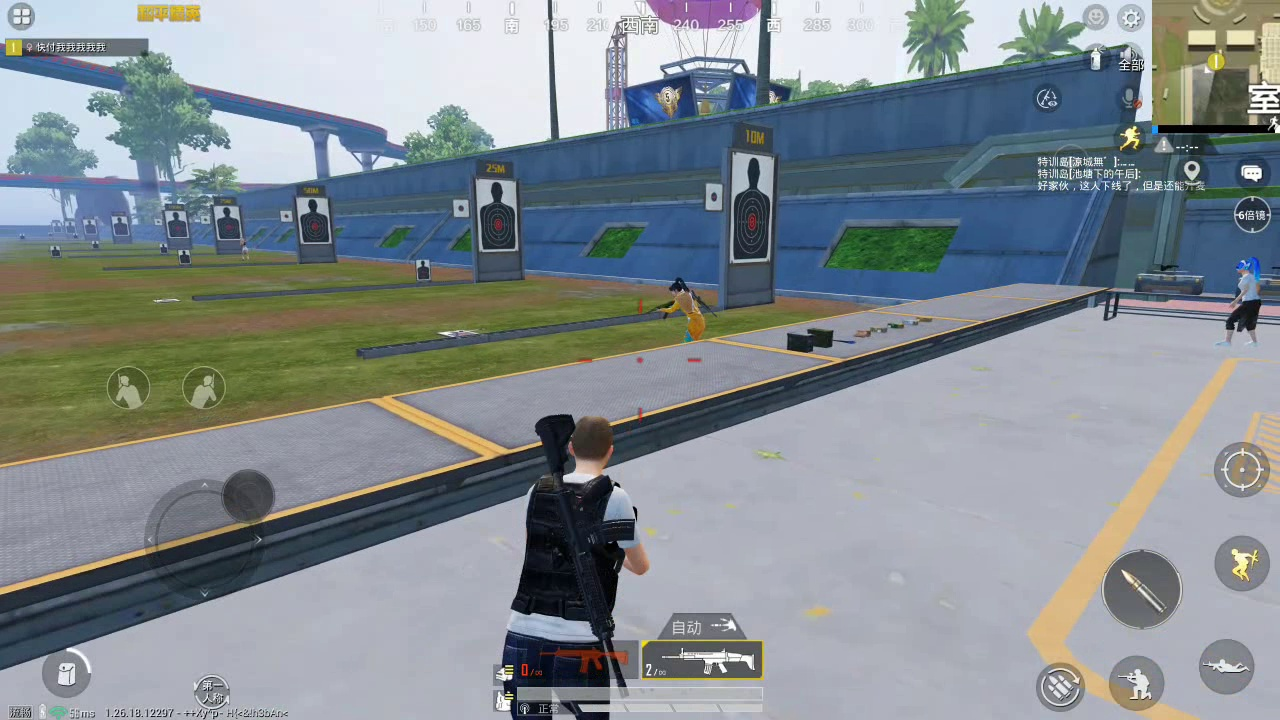enemy: (660, 278, 705, 344), (1229, 255, 1258, 352)
